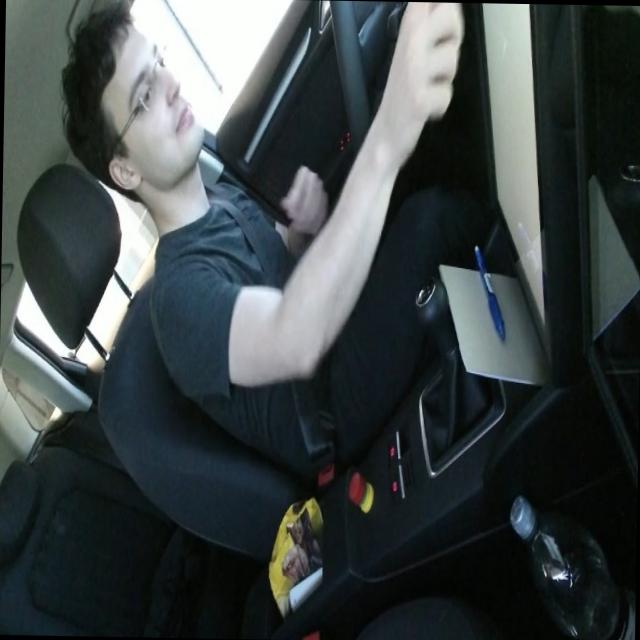pen: (471, 240, 507, 342)
